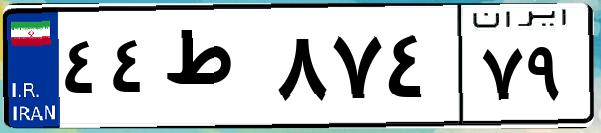4: (385, 28, 445, 110), (57, 26, 110, 100), (110, 28, 158, 98)
7: (330, 28, 385, 110), (475, 38, 525, 113)
8: (270, 28, 330, 110)
9: (525, 38, 570, 115)
ط: (158, 20, 270, 120)
